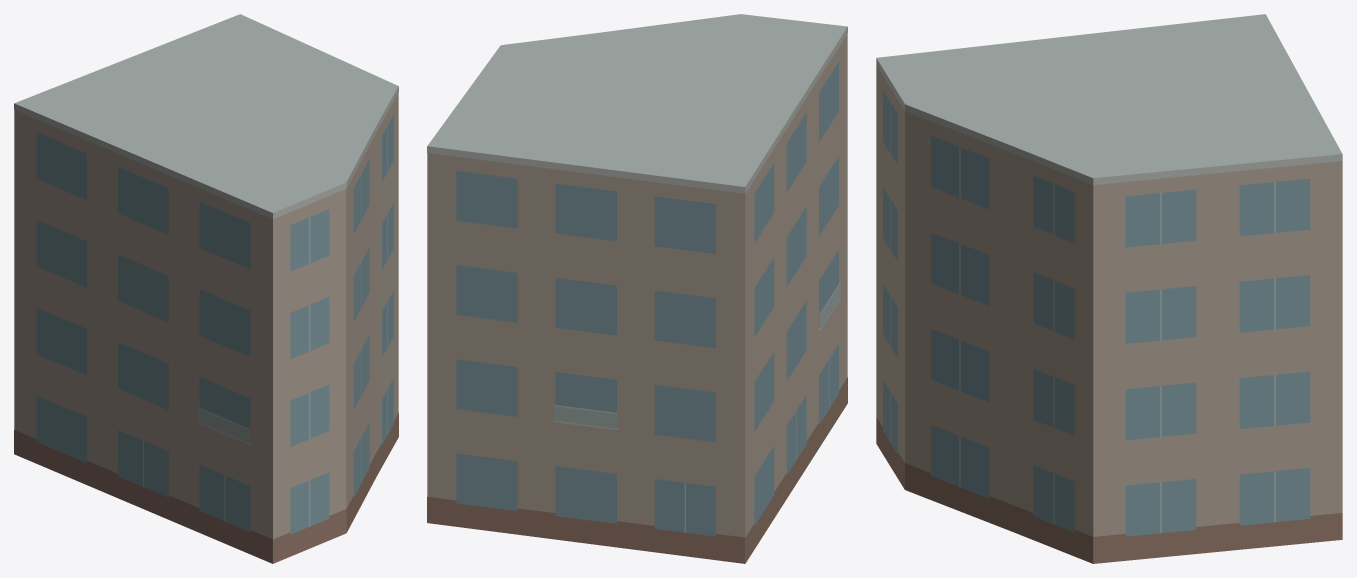
Rendered from survey-upis-32995287.glb.
3 views of the same model, side by side, from view 1: azimuth 30°, elevation 25°; view 2: azimuth 150°, elevation 25°; view 3: azimuth 270°, elevation 25° (orthographic). The views are drawn at different scales.
Parts seen in each view (by area): view 1: survey-upis-32995287.tmp; view 2: survey-upis-32995287.tmp; view 3: survey-upis-32995287.tmp.
Part boxes in pixels (x1,y1,x2,y2): survey-upis-32995287.tmp: (14,14,398,563); survey-upis-32995287.tmp: (427,14,847,563); survey-upis-32995287.tmp: (876,14,1342,563).
Size of the model in its own units: 12.43 by 13.6 by 14.91.
